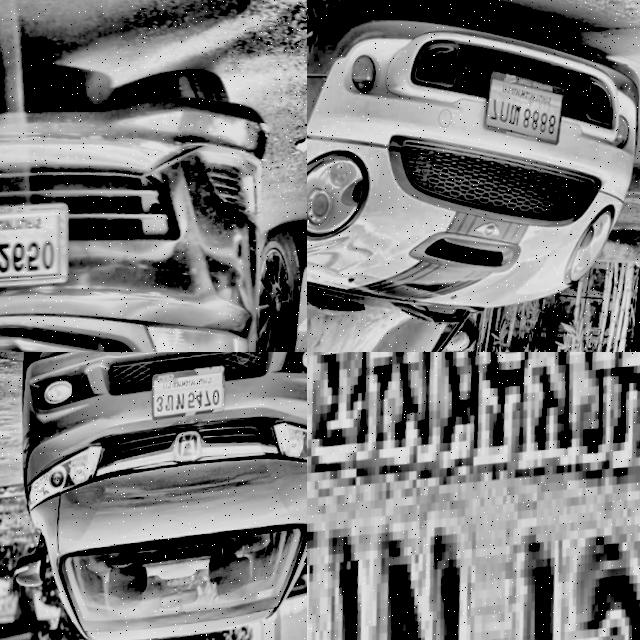license-plate: (307, 352, 640, 640), (481, 68, 573, 159), (0, 202, 82, 300), (148, 358, 234, 427)
